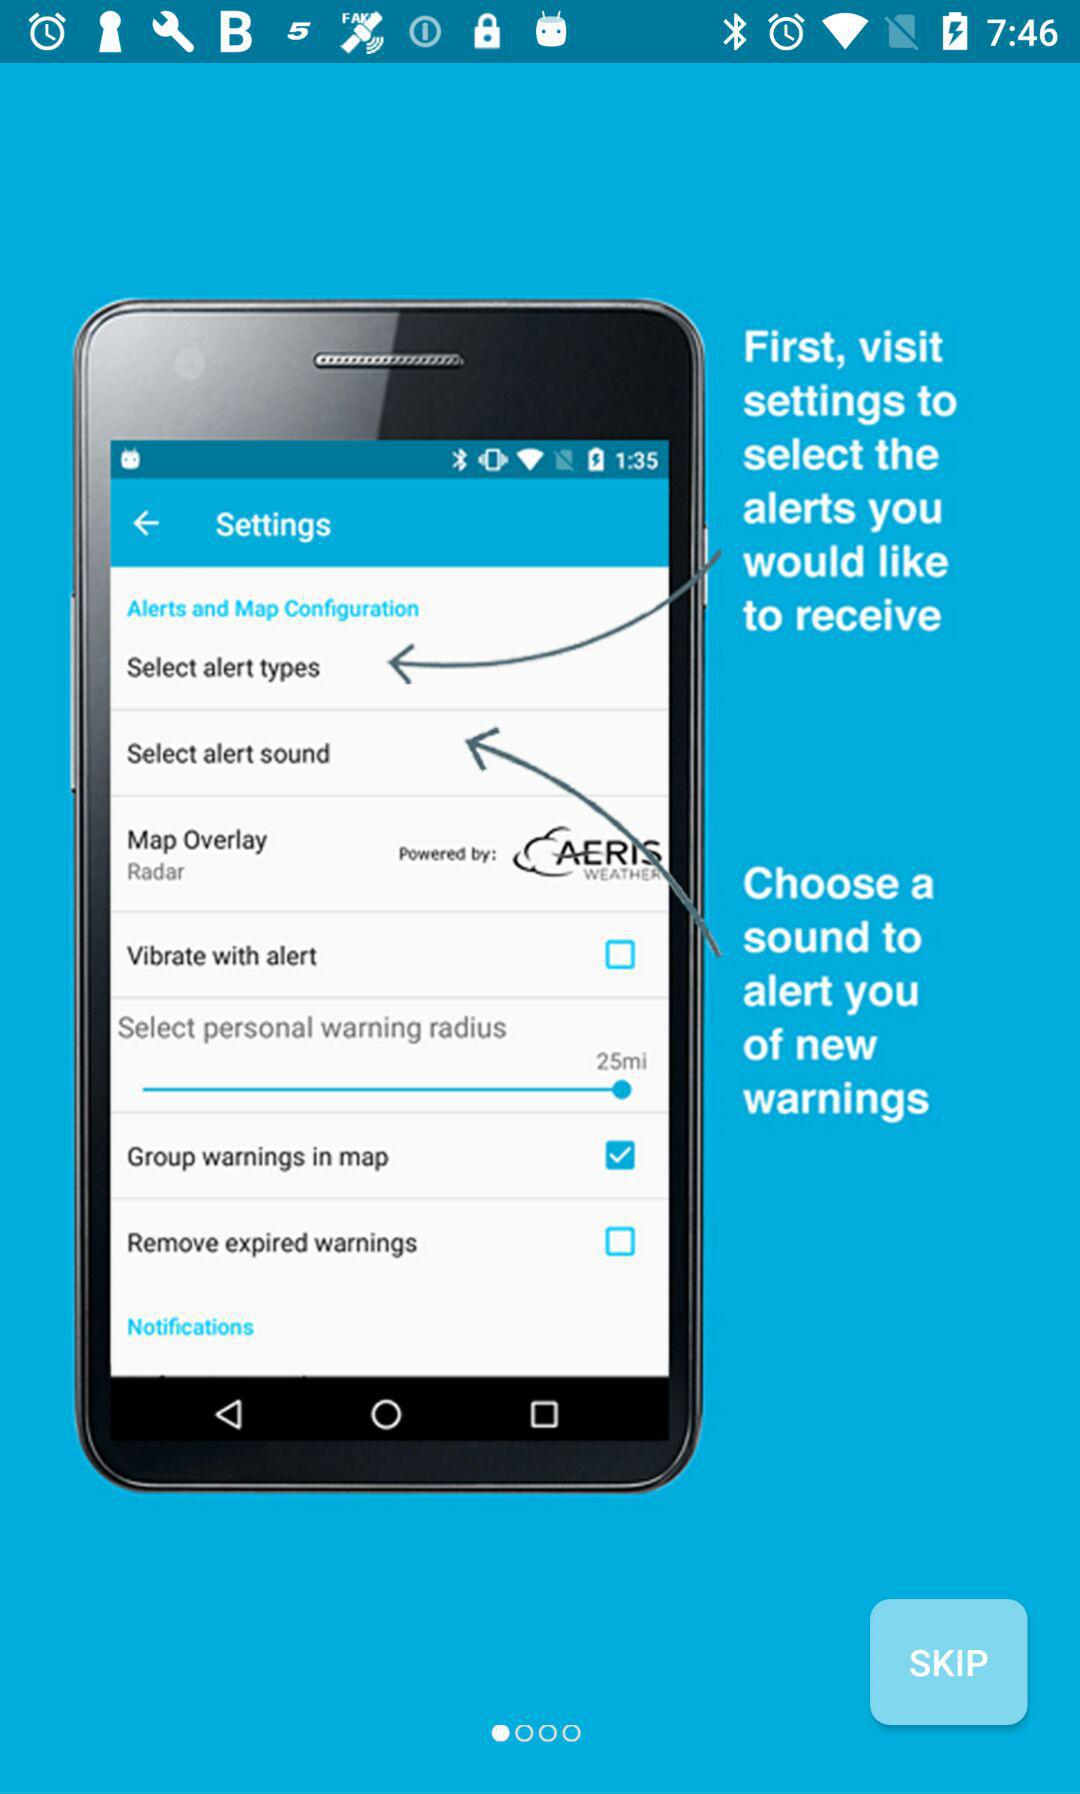Image: (70, 297, 958, 1494)
PageIndicator: (489, 1724, 583, 1744)
TextButton: (869, 1598, 1027, 1726)
UpperTaskBar: (1, 1, 1080, 64)
